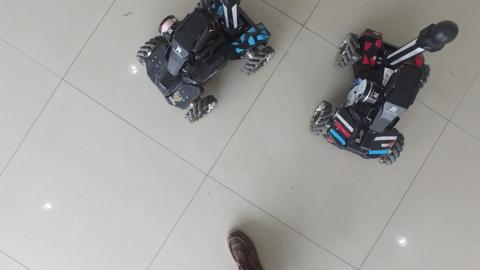chariot: (303, 16, 464, 170), (138, 1, 275, 128)
